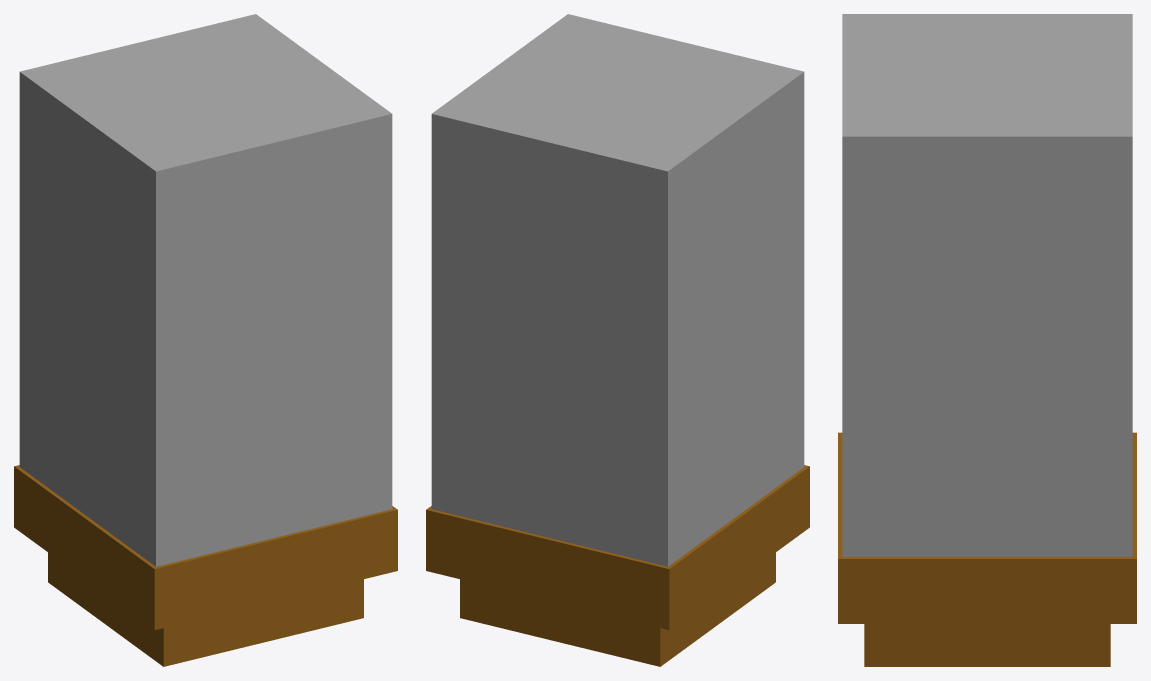
The model's file is DisplaySkull.fbx.
The picture shows the model from 3 angles, left to right: view 1: azimuth 30°, elevation 25°; view 2: azimuth 150°, elevation 25°; view 3: azimuth 270°, elevation 25°; orthographic projection. The views are drawn at different scales.
Parts seen in each view (by area): view 1: polySurface11, polySurface12; view 2: polySurface11, polySurface12; view 3: polySurface11, polySurface12.
Boxes of the visible parts, x1,y1,x2,y2 form: polySurface11: [19, 14, 392, 566]; polySurface12: [14, 465, 397, 666]; polySurface11: [431, 14, 804, 566]; polySurface12: [426, 465, 809, 666]; polySurface11: [842, 14, 1132, 556]; polySurface12: [838, 432, 1136, 666].
Size of the model in its own units: 103 by 205 by 103.
